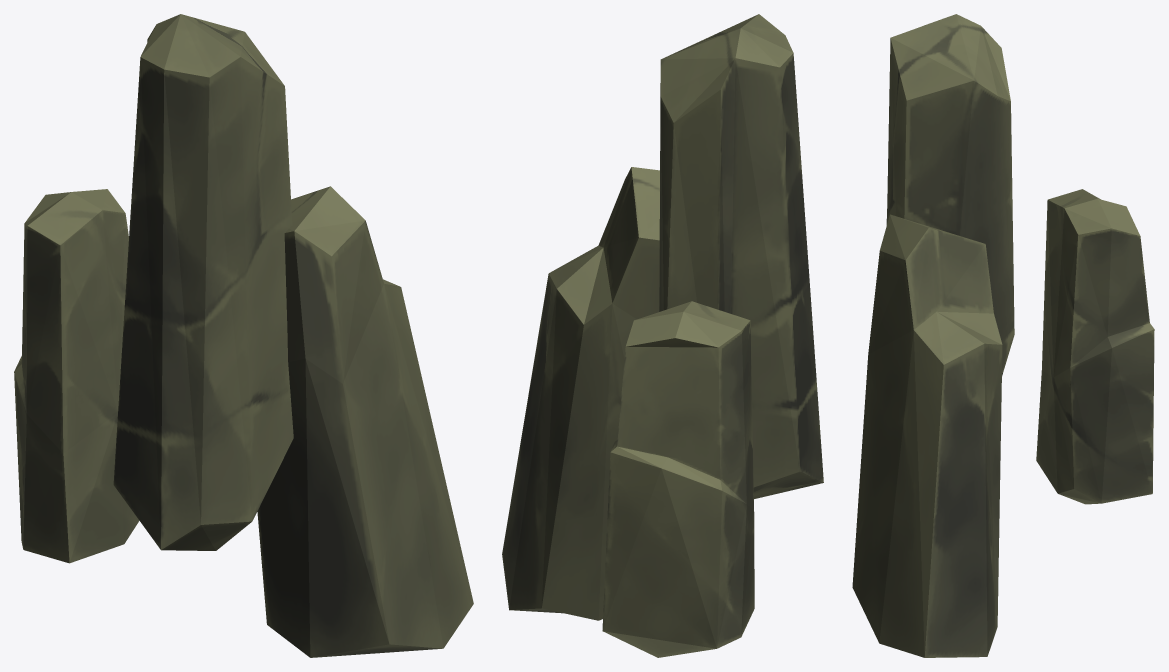
File: Rock28.fbx
3 views of the same model, side by side, from view 1: azimuth 30°, elevation 25°; view 2: azimuth 150°, elevation 25°; view 3: azimuth 270°, elevation 25° (orthographic). The views are drawn at different scales.
Parts seen in each view (by area): view 1: c; view 2: c; view 3: c.
Boxes of the visible parts, x1,y1,x2,y2 form: c: (14, 14, 473, 657); c: (502, 14, 823, 657); c: (852, 14, 1154, 657).
Bounding box in the file's own units: 220 × 401 × 196.
